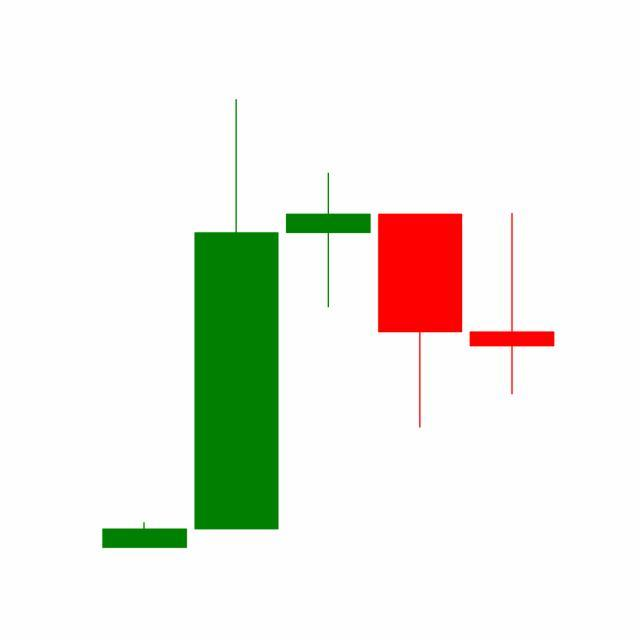Spinning Top: (466, 211, 559, 397)
